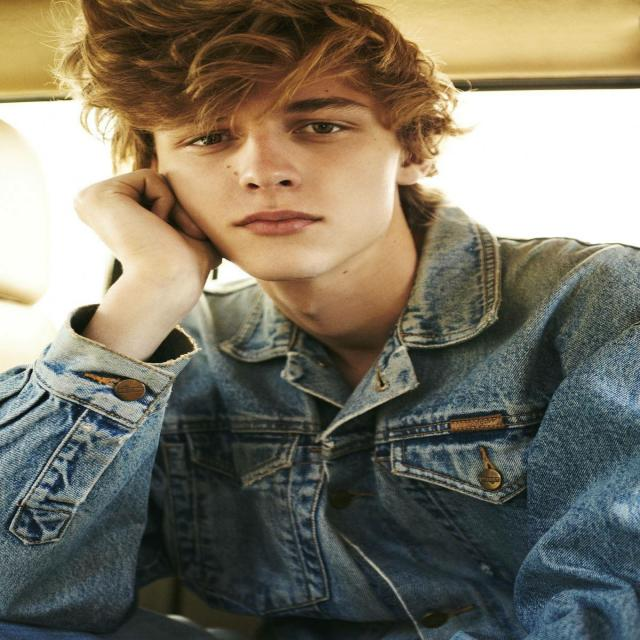earlobe: (396, 164, 418, 187)
eye: (298, 121, 349, 135), (188, 132, 236, 146)
nose: (240, 178, 305, 205)
wholeear: (395, 119, 431, 186)
